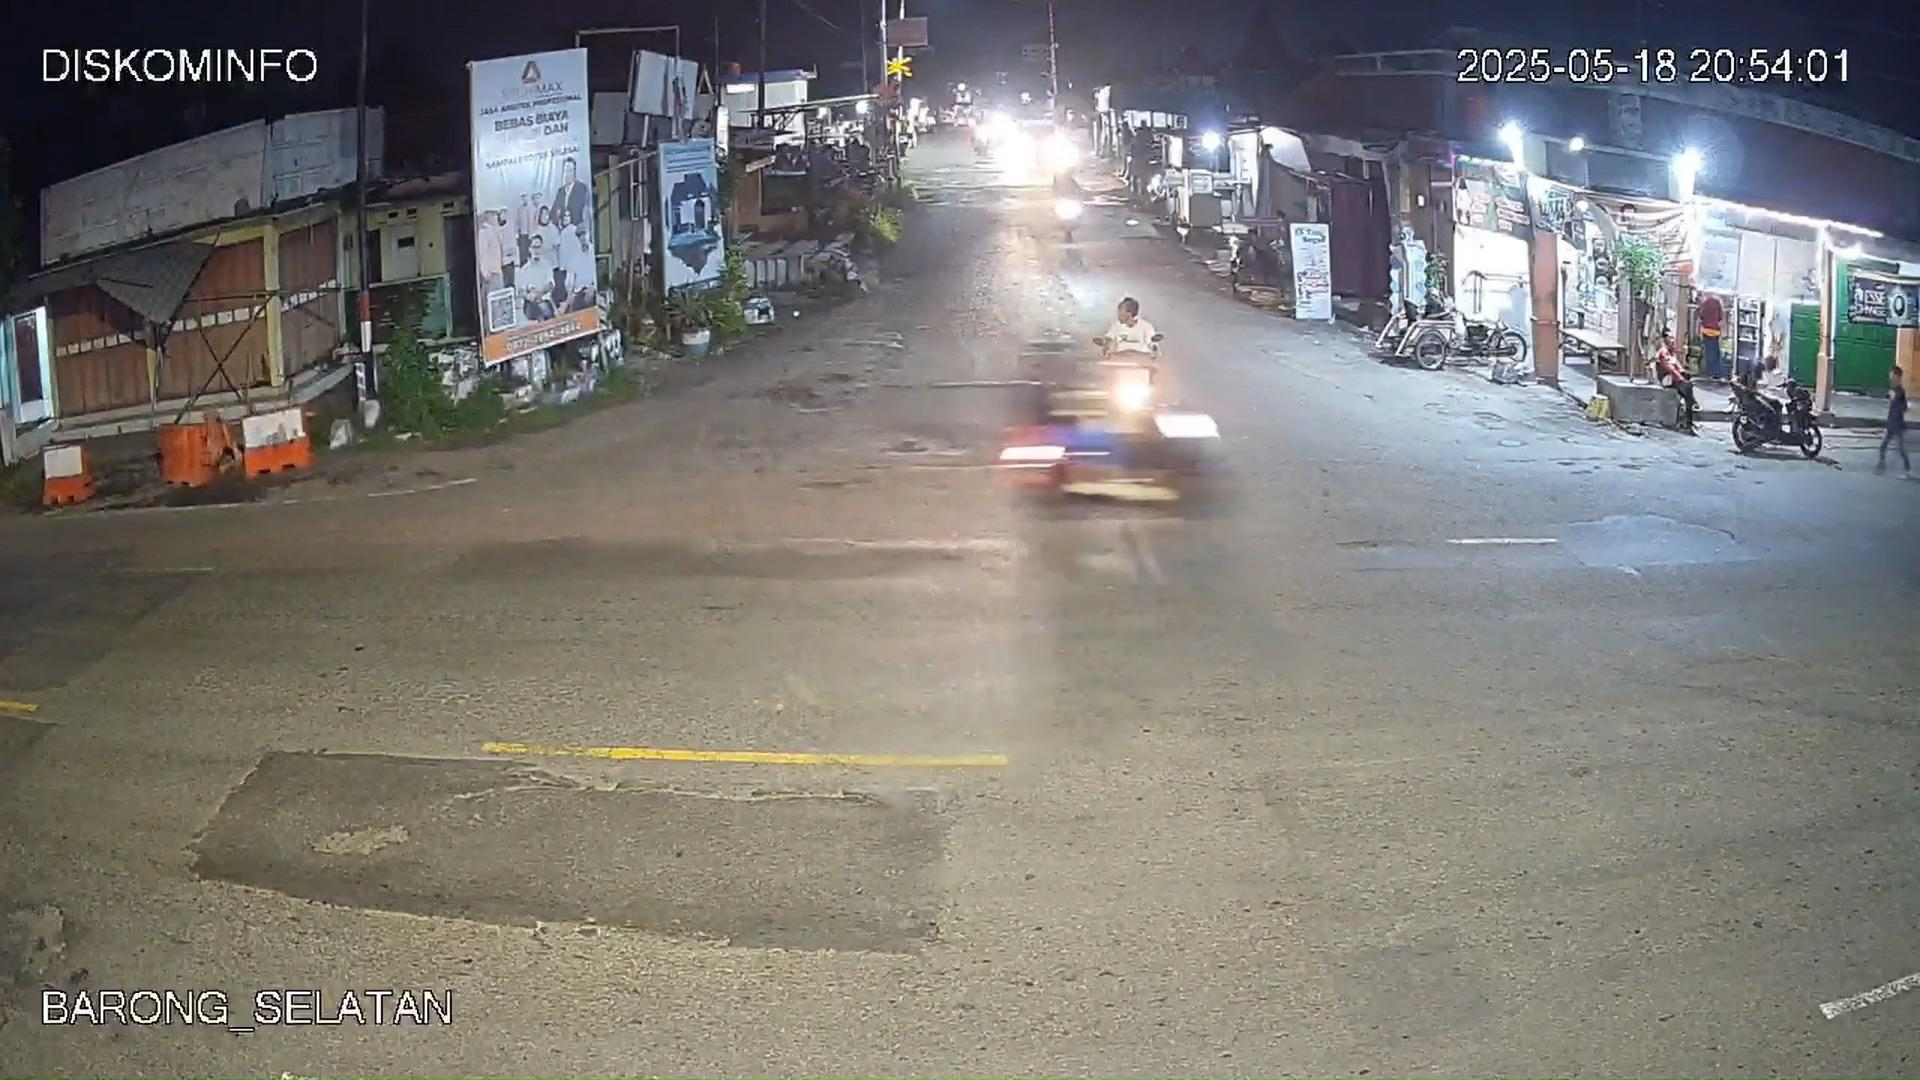Motor: (1002, 343, 1220, 514), (1727, 371, 1824, 459)
